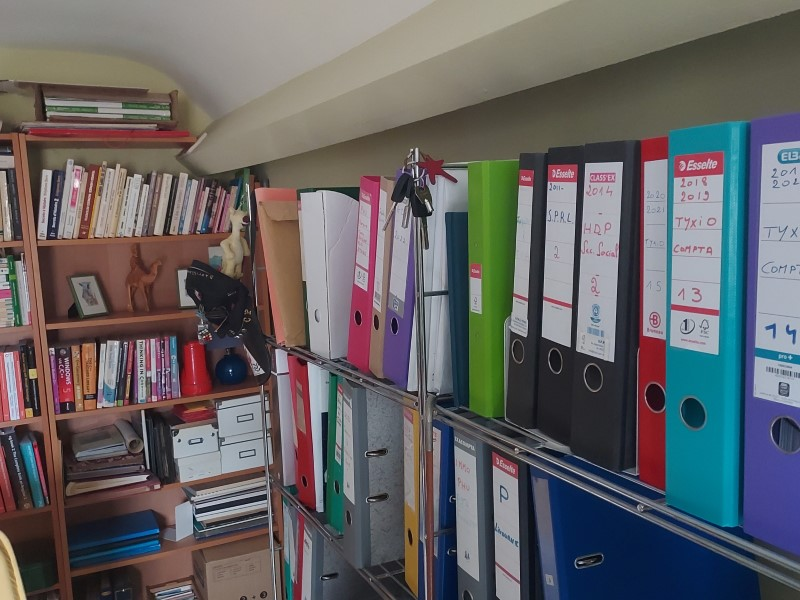key: (379, 173, 413, 231), (407, 186, 432, 252)
